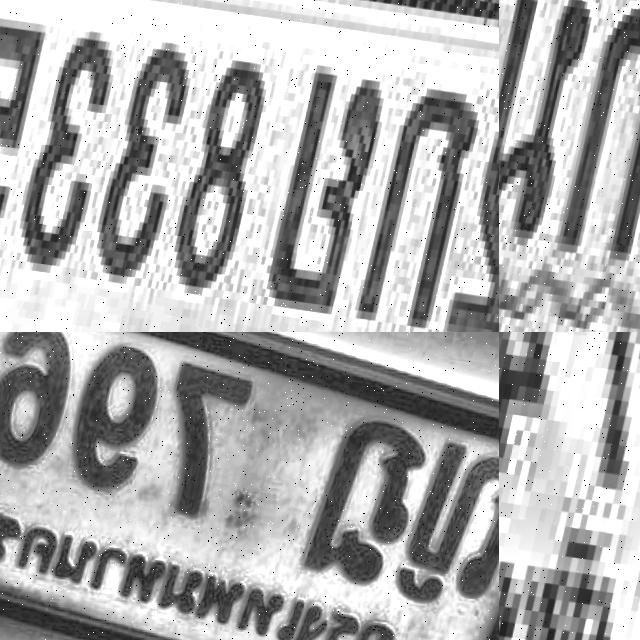license-plate: (0, 0, 499, 332), (0, 332, 499, 640), (499, 0, 640, 332), (499, 332, 640, 640)
